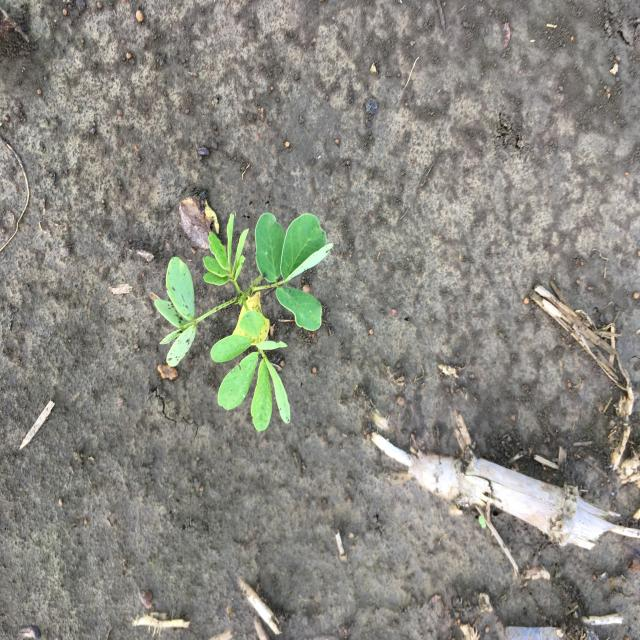Sicklepod: (152, 211, 337, 435)
